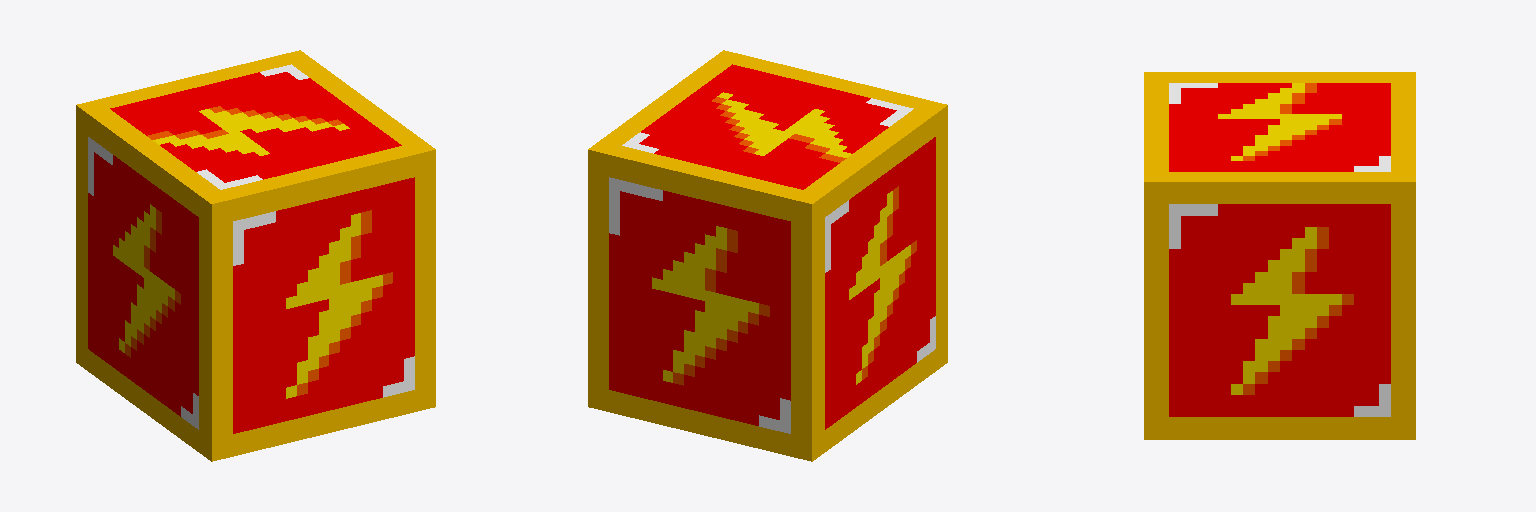
The picture shows the model from 3 angles: view 1: azimuth 30°, elevation 25°; view 2: azimuth 150°, elevation 25°; view 3: azimuth 270°, elevation 25°; orthographic projection.
Visible parts, largest first — view 1: object 1; view 2: object 1; view 3: object 1.
Part boxes in pixels (x1,y1,x2,y2): object 1: (76,50,435,461); object 1: (588,50,947,461); object 1: (1144,72,1415,439).
Size of the model in its own units: 2.1 by 2.3 by 2.2.
Materials: 1 (1 with a texture image).